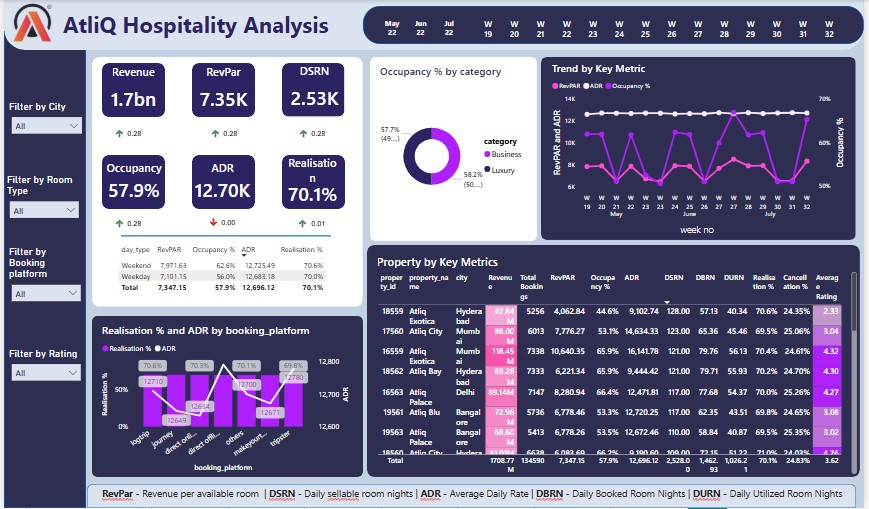

The dashboard page shown, as its layout file describes it:
{"tool":"powerbi","page":{"name":"Page 1","canvas":[1442,852],"ordinal":0},"visuals":[{"type":"shape","box":[147.6,95.6,454.5,419.3],"z":0},{"type":"shape","box":[164.4,105.7,105.7,90.6],"z":1000},{"type":"shape","box":[0,52,137.5,800],"z":2000},{"type":"slicer","title":"Filter by Room Type","fields":{"Values":["dim_rooms.room_class"]},"box":[0,289.8,134.7,87.8],"z":3000},{"type":"shape","box":[0,0,1442.4,83.9],"z":4000},{"type":"slicer","title":"Filter by City","fields":{"Values":["dim_hotels.city"]},"box":[4.1,167.3,136.7,61.2],"z":5000},{"type":"image","box":[3.4,0,90.6,75.5],"z":6000},{"type":"shape","box":[900.6,95.6,528.3,306.9],"z":7000},{"type":"lineChart","title":"Trend by Key Metric","fields":{"Category":["dim_date.mmm yy.Variation.Date Hierarchy.Month","dim_date.week no"],"Y":["key_measures.RevPAR","key_measures.ADR"],"Y2":["key_measures.Occupancy %"]},"box":[914.1,102.3,499.8,296.9],"z":8000},{"type":"shape","box":[608.8,410.9,826.8,389.1],"z":9000},{"type":"shape","box":[613.8,95.6,280.1,308.6],"z":10000},{"type":"donutChart","fields":{"Category":["dim_hotels.category"],"Y":["key_measures.Occupancy %"]},"box":[625.6,107.3,258.3,286.8],"z":11000},{"type":"shape","box":[147.6,530,454.5,270],"z":12000},{"type":"lineStackedColumnComboChart","fields":{"Category":["fact_bookings.booking_platform"],"Y":["key_measures.Realisation %"],"Y2":["key_measures.ADR"]},"box":[159.3,541.7,429.4,254.9],"z":13000},{"type":"tableEx","fields":{"Values":["dim_date.day_type","key_measures.RevPAR","key_measures.Occupancy %","key_measures.ADR","key_measures.Realisation %"]},"box":[186.2,404.2,379,112.4],"z":14000},{"type":"card","title":"Revenue","fields":{"Values":["key_measures.Revenue"]},"box":[164.4,107.3,105.7,90.6],"z":15000},{"type":"shape","box":[315.3,105.7,105.7,90.6],"z":16000},{"type":"card","title":"RevPar","fields":{"Values":["key_measures.RevPAR"]},"box":[315.3,107.3,105.7,90.6],"z":17000},{"type":"shape","box":[466.3,105.7,105,90],"z":18000},{"type":"card","title":"DSRN","fields":{"Values":["key_measures.DSRN"]},"box":[467.9,105.7,105.7,90.6],"z":19000},{"type":"tableEx","fields":{"Values":["key_measures.Revpar WoW change %"]},"box":[176.1,186.2,82.2,60.4],"z":20000},{"type":"tableEx","fields":{"Values":["key_measures.Revpar WoW change %"]},"box":[337.1,186.2,70.4,50.3],"z":21000},{"type":"tableEx","fields":{"Values":["key_measures.Revpar WoW change %"]},"box":[484.7,186.2,72.1,50.3],"z":22000},{"type":"shape","box":[164.4,260,105.7,90.6],"z":23000},{"type":"card","title":"Occupancy","fields":{"Values":["key_measures.Occupancy %"]},"box":[154.3,268.3,127.5,73.8],"z":24000},{"type":"shape","box":[315.3,260,105.7,90.6],"z":25000},{"type":"card","title":"ADR","fields":{"Values":["key_measures.ADR"]},"box":[312,268.3,109,73.8],"z":26000},{"type":"shape","box":[466.3,260,105.7,90.6],"z":27000},{"type":"card","title":"Realisation","fields":{"Values":["key_measures.Realisation %"]},"box":[469.6,260,95.6,82.2],"z":28000},{"type":"tableEx","fields":{"Values":["key_measures.Occupancy WoW change %"]},"box":[176.1,337.1,72.1,52],"z":29000},{"type":"tableEx","fields":{"Values":["key_measures.ADR WoW change %"]},"box":[333.8,335.4,70.4,52],"z":30000},{"type":"tableEx","fields":{"Values":["key_measures.Realisation WoW change %"]},"box":[483,337.1,70.4,50.3],"z":31000},{"type":"shape","box":[196.2,389.1,352.2,13.4],"z":32000},{"type":"shape","box":[602.1,10.1,840.3,63.7],"z":33000},{"type":"slicer","fields":{"Values":["dim_date.week no"]},"box":[764.8,20.1,664.2,43.6],"z":34000},{"type":"slicer","fields":{"Values":["dim_date.mmm yy"]},"box":[602.1,18.4,191.2,55.3],"z":35000},{"type":"tableEx","title":"Property by Key Metrics","fields":{"Values":["dim_hotels.property_id","dim_hotels.property_name","dim_hotels.city","key_measures.Revenue","key_measures.Total Bookings","key_measures.RevPAR","key_measures.Occupancy %","key_measures.ADR","key_measures.DSRN","key_measures.DBRN","key_measures.DURN","key_measures.Realisation %"]},"box":[620.6,426,815.1,374],"z":36000},{"type":"shape","box":[139.2,811.7,1289.7,40.3],"z":37000},{"type":"textbox","box":[93.9,10.1,479.7,65.4],"z":38000},{"type":"slicer","title":"Filter by Rating","fields":{"Values":["fact_bookings.ratings_given"]},"box":[4.1,581.6,134.7,87.8],"z":39000},{"type":"slicer","title":"Filter by Booking platform","fields":{"Values":["fact_bookings.booking_platform"]},"box":[4.1,410.2,134.7,110.2],"z":40000},{"type":"textbox","box":[159.2,812.2,1283.7,38.8],"z":41000}]}

Visuals, with their boxes in screenshot pixels (x1, y1, x2, y2), scaled from the page's 1442x852 canvas onto the 869x509 screenshot:
shape: rect(89, 57, 363, 308)
shape: rect(99, 63, 163, 117)
shape: rect(0, 31, 83, 508)
"Filter by Room Type" slicer: rect(0, 173, 81, 226)
shape: rect(0, 0, 868, 50)
"Filter by City" slicer: rect(2, 100, 85, 137)
image: rect(2, 0, 57, 45)
shape: rect(543, 57, 861, 240)
"Trend by Key Metric" lineChart: rect(551, 61, 852, 238)
shape: rect(367, 245, 865, 478)
shape: rect(370, 57, 539, 241)
donutChart - dim_hotels.category x key_measures.Occupancy %: rect(377, 64, 533, 235)
shape: rect(89, 317, 363, 478)
lineStackedColumnComboChart - fact_bookings.booking_platform x key_measures.Realisation %: rect(96, 324, 355, 476)
tableEx - dim_date.day_type x key_measures.RevPAR: rect(112, 241, 341, 309)
"Revenue" card: rect(99, 64, 163, 118)
shape: rect(190, 63, 254, 117)
"RevPar" card: rect(190, 64, 254, 118)
shape: rect(281, 63, 344, 117)
"DSRN" card: rect(282, 63, 346, 117)
tableEx - key_measures.Revpar WoW change %: rect(106, 111, 156, 147)
tableEx - key_measures.Revpar WoW change %: rect(203, 111, 246, 141)
tableEx - key_measures.Revpar WoW change %: rect(292, 111, 336, 141)
shape: rect(99, 155, 163, 209)
"Occupancy" card: rect(93, 160, 170, 204)
shape: rect(190, 155, 254, 209)
"ADR" card: rect(188, 160, 254, 204)
shape: rect(281, 155, 345, 209)
"Realisation" card: rect(283, 155, 341, 204)
tableEx - key_measures.Occupancy WoW change %: rect(106, 201, 150, 232)
tableEx - key_measures.ADR WoW change %: rect(201, 200, 244, 231)
tableEx - key_measures.Realisation WoW change %: rect(291, 201, 333, 231)
shape: rect(118, 232, 330, 240)
shape: rect(363, 6, 868, 44)
slicer - dim_date.week no: rect(461, 12, 861, 38)
slicer - dim_date.mmm yy: rect(363, 11, 478, 44)
"Property by Key Metrics" tableEx: rect(374, 254, 865, 478)
shape: rect(84, 485, 861, 508)
textbox: rect(57, 6, 346, 45)
"Filter by Rating" slicer: rect(2, 347, 84, 400)
"Filter by Booking platform" slicer: rect(2, 245, 84, 311)
textbox: rect(96, 485, 868, 508)
